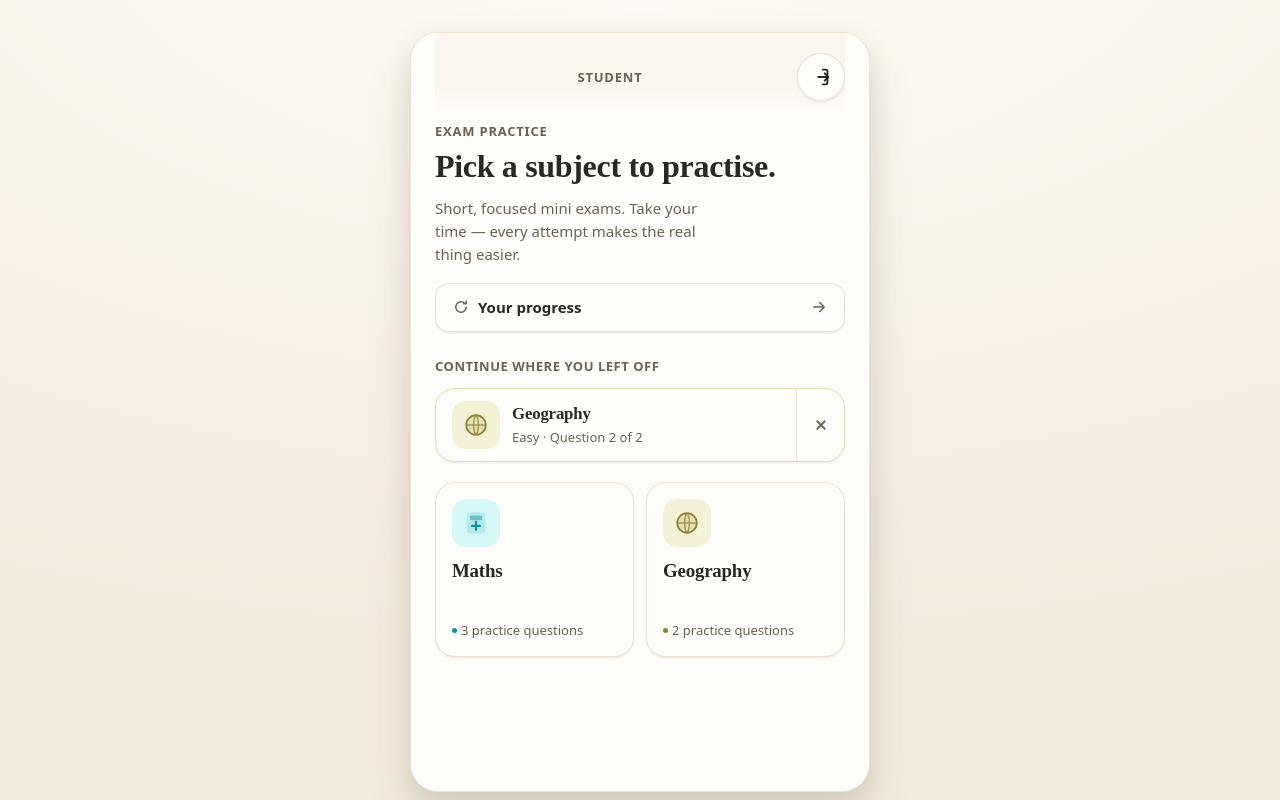
Test: ExamApp and what this server can mark › says under a resumed written question that Codex is signed out, and how to sign it in
Step 1. Click the button with test id "resume-geo-easy" → (614, 425), box top-left (436, 389), bottom-right (792, 461)
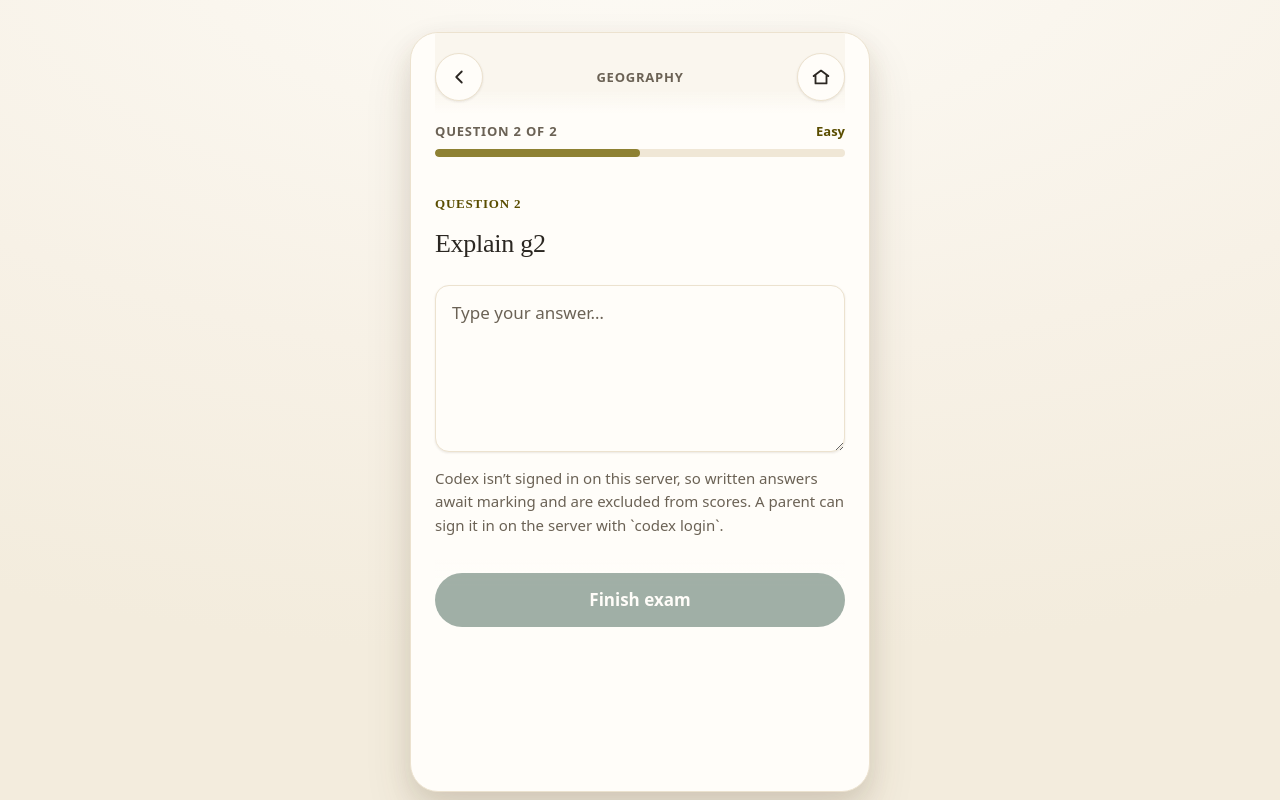
Expected: the text with test id "exam-free-unmarked" shows "Codex isn’t signed in on this server, so written answers await marking and are excluded from scores. A parent can sign it in on the server with `codex login`.", top-left (435, 468), bottom-right (844, 535)
